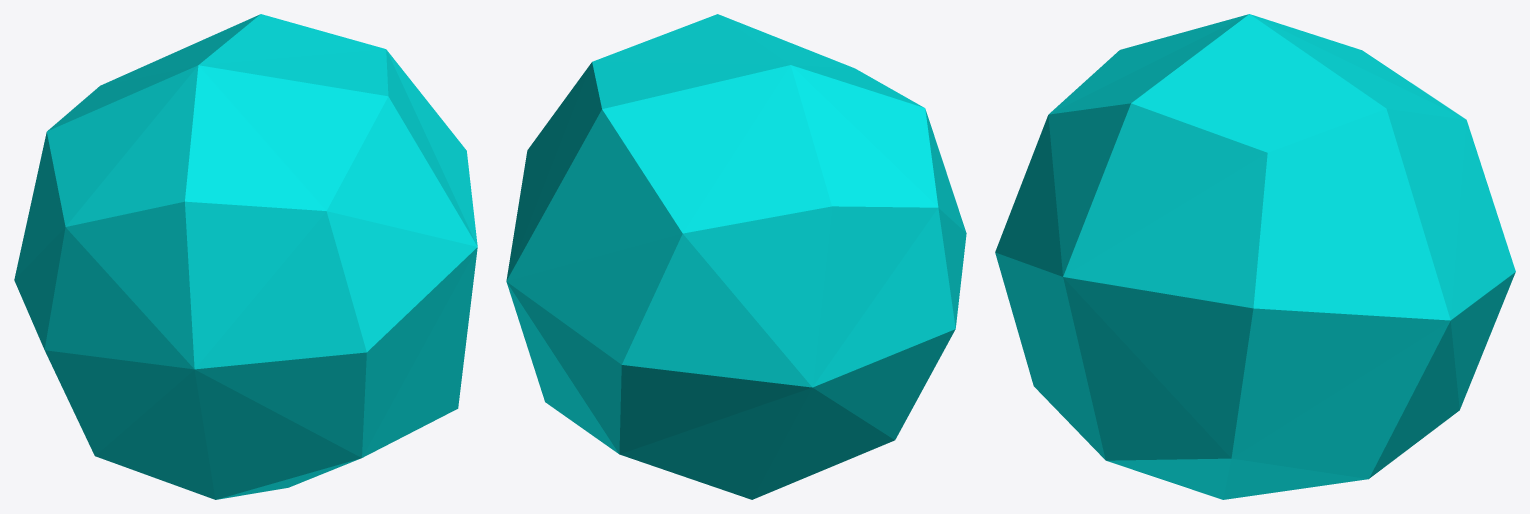
Rendered from mesh_crystal_alt.fbx.
3 renders of one model, left to right at view 1: azimuth 30°, elevation 25°; view 2: azimuth 150°, elevation 25°; view 3: azimuth 270°, elevation 25°, orthographic. The views are drawn at different scales.
Parts seen in each view (by area): view 1: mesh_crystal_alt; view 2: mesh_crystal_alt; view 3: mesh_crystal_alt.
Part boxes in pixels (left/top/right/bottom): mesh_crystal_alt: left=14, top=14, right=477, bottom=499; mesh_crystal_alt: left=506, top=14, right=966, bottom=499; mesh_crystal_alt: left=995, top=14, right=1515, bottom=499.
Bounding box in the file's own units: 0.0257 × 0.0246 × 0.026.
